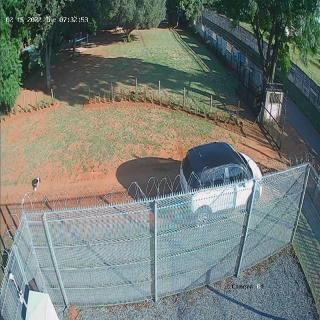car: (179, 142, 263, 230)
